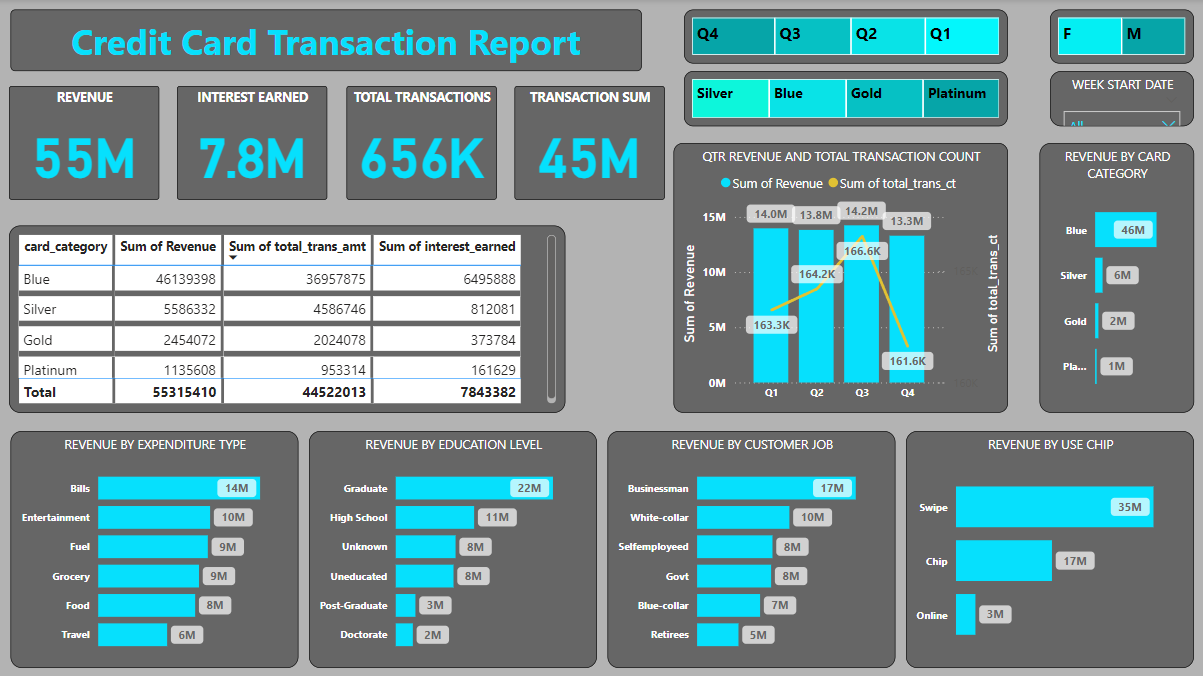

The dashboard page shown, as its layout file describes it:
{"tool":"powerbi","page":{"name":"cc transaction","canvas":[1280,720],"ordinal":1},"visuals":[{"type":"textbox","box":[11.1,11.1,669.6,65.2],"z":0},{"type":"lineClusteredColumnComboChart","title":"QTR REVENUE AND TOTAL TRANSACTION COUNT","fields":{"Category":["public cc_detail.qtr"],"Y":["Sum(public cc_detail.Revenue)"],"Y2":["Sum(public cc_detail.total_trans_ct)"]},"box":[714.2,152.7,354.7,286.3],"z":1000},{"type":"clusteredBarChart","title":" REVENUE BY EXPENDITURE TYPE","fields":{"Category":["public cc_detail.exp_type"],"Y":["Sum(public cc_detail.Revenue)"]},"box":[11.1,458.1,305.4,251.3],"z":2000},{"type":"clusteredBarChart","title":" REVENUE BY EDUCATION LEVEL","fields":{"Y":["Sum(public cc_detail.Revenue)"],"Category":["public cust_detail.education_level"]},"box":[327.7,458.1,305.4,251.3],"z":3000},{"type":"clusteredBarChart","title":" REVENUE BY CUSTOMER JOB","fields":{"Y":["Sum(public cc_detail.Revenue)"],"Category":["public cust_detail.customer_job"]},"box":[644.2,458.1,305.4,251.3],"z":4000},{"type":"clusteredBarChart","title":" REVENUE BY CARD CATEGORY","fields":{"Y":["Sum(public cc_detail.Revenue)"],"Category":["public cc_detail.card_category"]},"box":[1102.3,152.7,163.8,286.3],"z":5000},{"type":"clusteredBarChart","title":" REVENUE BY USE CHIP","fields":{"Y":["Sum(public cc_detail.Revenue)"],"Category":["public cc_detail.use_chip"]},"box":[960.7,458.1,305.4,251.3],"z":6000},{"type":"tableEx","fields":{"Values":["public cc_detail.card_category","Sum(public cc_detail.Revenue)","Sum(public cc_detail.total_trans_amt)","Sum(public cc_detail.interest_earned)"]},"box":[9.5,240.2,590.1,198.8],"z":7000},{"type":"card","title":"REVENUE","fields":{"Values":["Sum(public cc_detail.Revenue)"]},"box":[9.5,92.3,159.1,120.9],"z":8000},{"type":"card","title":"TRANSACTION SUM","fields":{"Values":["Sum(public cc_detail.total_trans_amt)"]},"box":[545.6,92.3,159.1,120.9],"z":9000},{"type":"card","title":"TOTAL TRANSACTIONS","fields":{"Values":["Sum(public cc_detail.total_trans_ct)"]},"box":[366.9,92.3,159.1,120.9],"z":10000},{"type":"card","title":"INTEREST EARNED","fields":{"Values":["Sum(public cc_detail.interest_earned)"]},"box":[188.2,92.3,159.1,120.9],"z":11000},{"type":"slicer","title":"WEEK START DATE","fields":{"Values":["public cc_detail.week_start_date"]},"box":[1113.4,76.3,152.7,58.9],"z":12000},{"type":"treemap","fields":{"Group":["public cc_detail.qtr"],"Values":["Avg(public cc_detail.client_num)"]},"box":[725.3,11.1,343.6,57.3],"z":13000},{"type":"treemap","fields":{"Group":["public cust_detail.gender"],"Values":["Avg(public cc_detail.client_num)"]},"box":[1113.4,11.1,152.7,57.3],"z":14000},{"type":"treemap","fields":{"Values":["Avg(public cc_detail.client_num)"],"Group":["public cc_detail.card_category"]},"box":[725.3,76.3,343.6,58.9],"z":15000}]}

Visuals, with their boxes in screenshot pixels (x1, y1, x2, y2), scaled from the page's 1280x720 canvas onto the 1203x676 screenshot:
textbox: crop(10, 10, 640, 72)
"QTR REVENUE AND TOTAL TRANSACTION COUNT" lineClusteredColumnComboChart: crop(671, 143, 1005, 412)
" REVENUE BY EXPENDITURE TYPE" clusteredBarChart: crop(10, 430, 297, 666)
" REVENUE BY EDUCATION LEVEL" clusteredBarChart: crop(308, 430, 595, 666)
" REVENUE BY CUSTOMER JOB" clusteredBarChart: crop(605, 430, 892, 666)
" REVENUE BY CARD CATEGORY" clusteredBarChart: crop(1036, 143, 1190, 412)
" REVENUE BY USE CHIP" clusteredBarChart: crop(903, 430, 1190, 666)
tableEx - public cc_detail.card_category x Sum(public cc_detail.Revenue): crop(9, 226, 564, 412)
"REVENUE" card: crop(9, 87, 158, 200)
"TRANSACTION SUM" card: crop(513, 87, 662, 200)
"TOTAL TRANSACTIONS" card: crop(345, 87, 494, 200)
"INTEREST EARNED" card: crop(177, 87, 326, 200)
"WEEK START DATE" slicer: crop(1046, 72, 1190, 127)
treemap - public cc_detail.qtr x Avg(public cc_detail.client_num): crop(682, 10, 1005, 64)
treemap - public cust_detail.gender x Avg(public cc_detail.client_num): crop(1046, 10, 1190, 64)
treemap - Avg(public cc_detail.client_num) x public cc_detail.card_category: crop(682, 72, 1005, 127)
